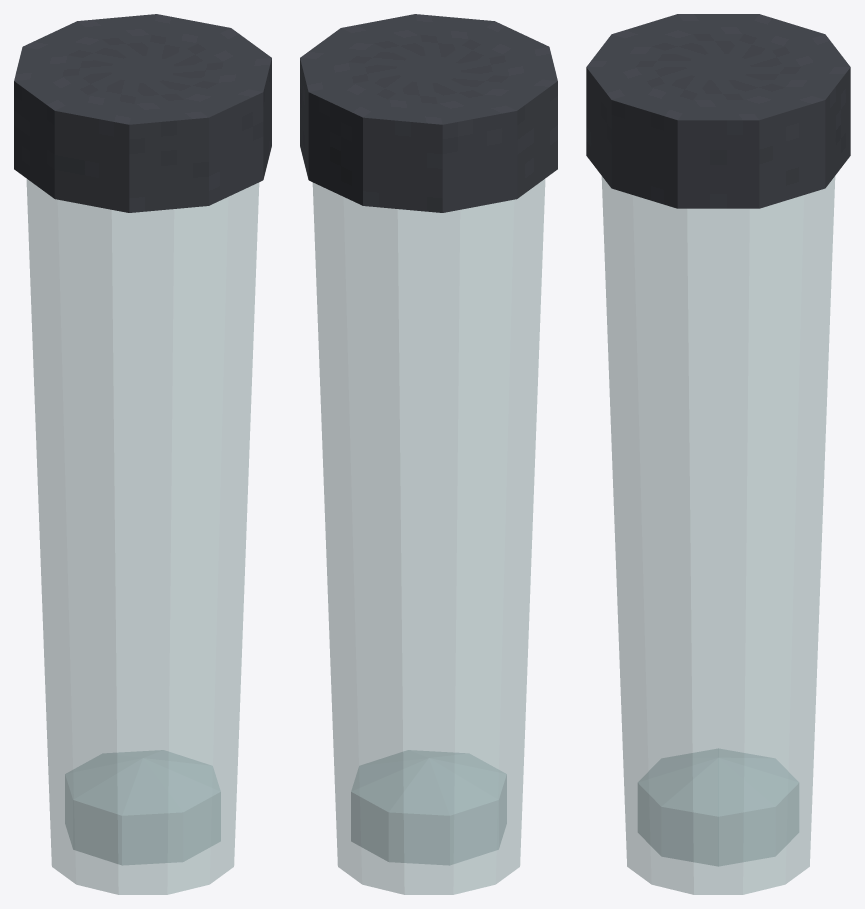
3 renders of one model, left to right at view 1: azimuth 30°, elevation 25°; view 2: azimuth 150°, elevation 25°; view 3: azimuth 270°, elevation 25°, orthographic.
Visible parts, largest first — view 1: block_transparent tube, block_closure, block_rounded test tube base; view 2: block_transparent tube, block_closure, block_rounded test tube base; view 3: block_transparent tube, block_closure, block_rounded test tube base.
Part boxes in pixels (x1,y1,x2,y2): block_transparent tube: (26,179,259,894); block_closure: (14,14,271,212); block_rounded test tube base: (65,750,220,865); block_transparent tube: (312,179,545,894); block_closure: (300,14,557,212); block_rounded test tube base: (351,750,506,865); block_transparent tube: (601,176,835,894); block_closure: (586,14,850,208); block_rounded test tube base: (638,748,798,866).
Bounding box in the file's own units: 0.0288 × 0.1 × 0.0303.
Materials: 2 (2 with a texture image).
